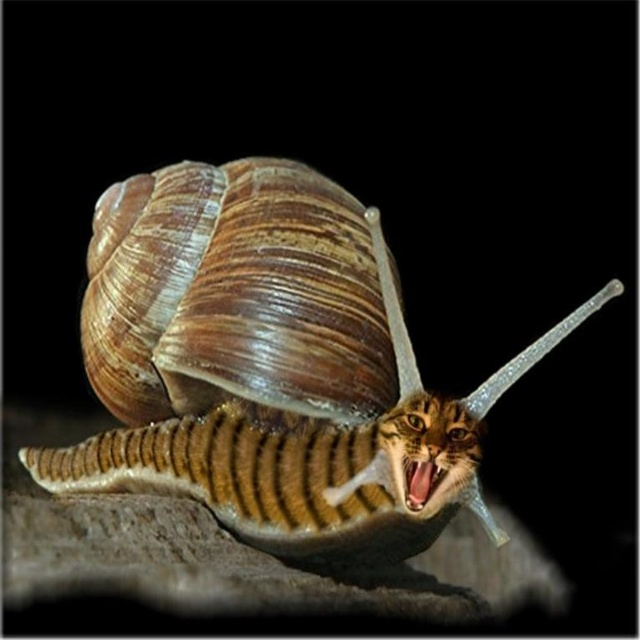Snail: (15, 152, 623, 563)
